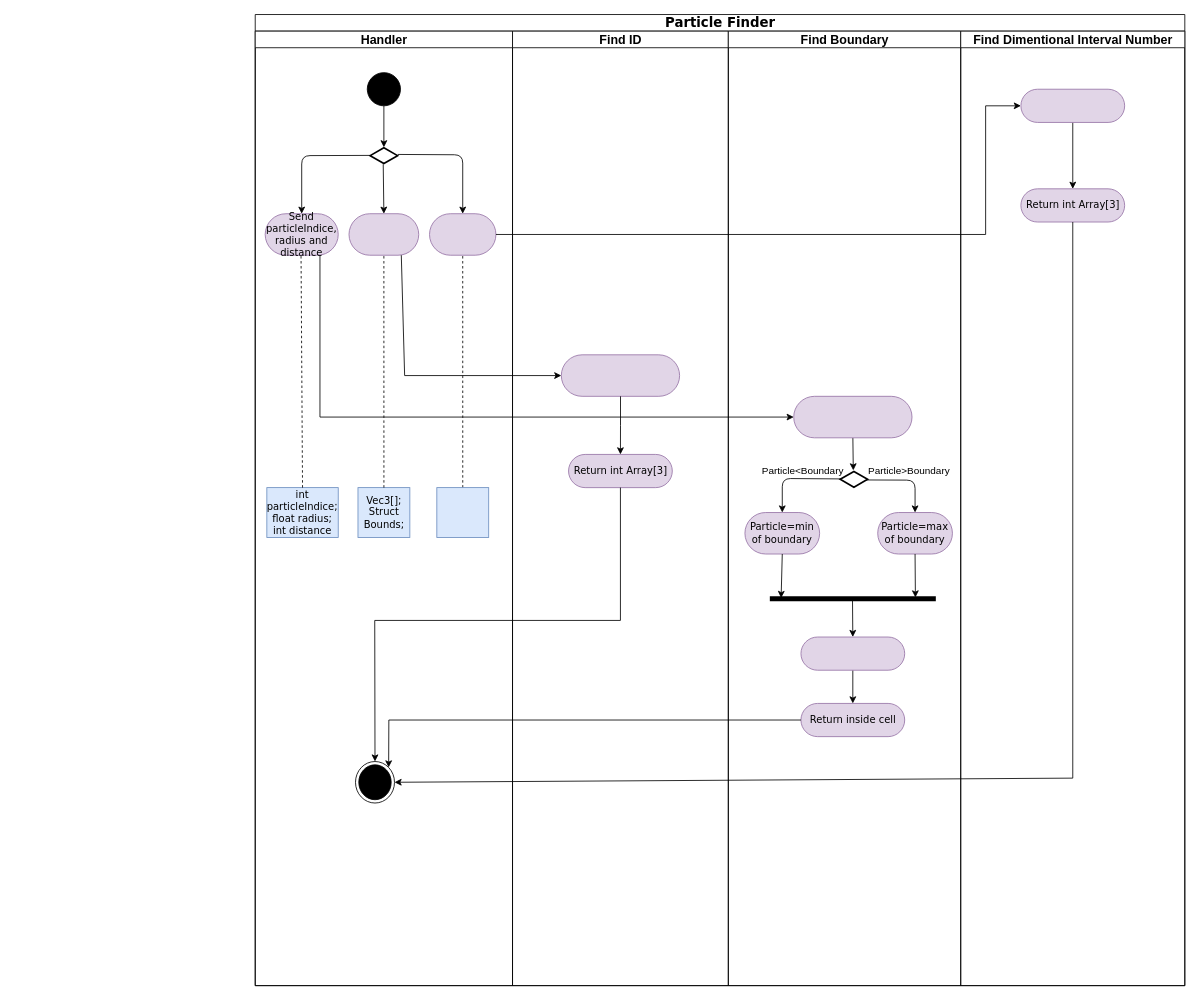
This 1199x1000 diagram has some shape labels left out. The box of each missing label's shape, as (x1, y1, x2, y2) in pixels:
For every Dimension: (max - min) / Radius: (1020, 88, 1125, 122)
For every Dimension: (particle - bound) / Radius: (560, 354, 680, 396)
For every Dimension: Is particle out of boundaries?: (793, 395, 912, 438)
Send bounds and radius: (429, 213, 496, 255)
Send vector3 and bounds: (348, 213, 419, 255)
Set min&max of inside cell: (800, 636, 905, 670)
Struct Bounds; float radius;: (436, 487, 489, 537)
